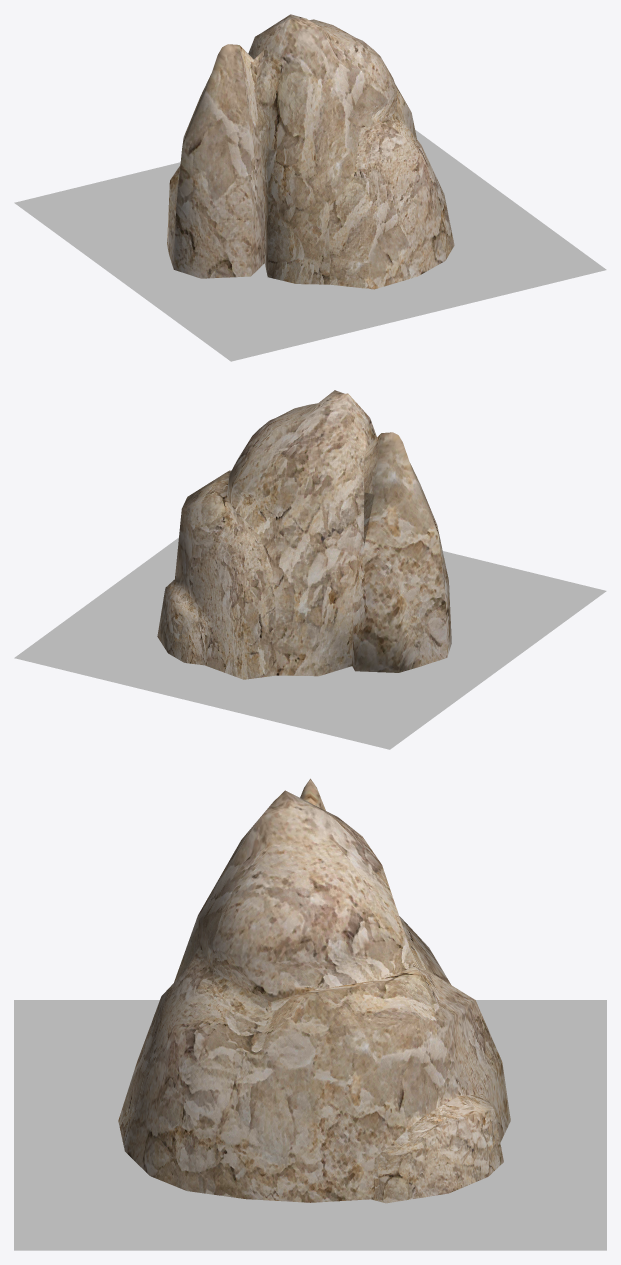
The model's file is farm_item_03.fbx.
3 views of the same model, one above another, from view 1: azimuth 30°, elevation 25°; view 2: azimuth 150°, elevation 25°; view 3: azimuth 270°, elevation 25° (orthographic). The views are drawn at different scales.
Visible parts, largest first — view 1: farm_item_03, shadow; view 2: farm_item_03, shadow; view 3: farm_item_03, shadow.
Part boxes in pixels (x1,y1,x2,y2): farm_item_03: (167, 14, 454, 289); shadow: (14, 130, 606, 361); farm_item_03: (157, 390, 451, 679); shadow: (14, 537, 606, 749); farm_item_03: (118, 778, 510, 1203); shadow: (14, 1000, 606, 1250).
Size of the model in its own units: 2.58 by 1.52 by 2.58.
